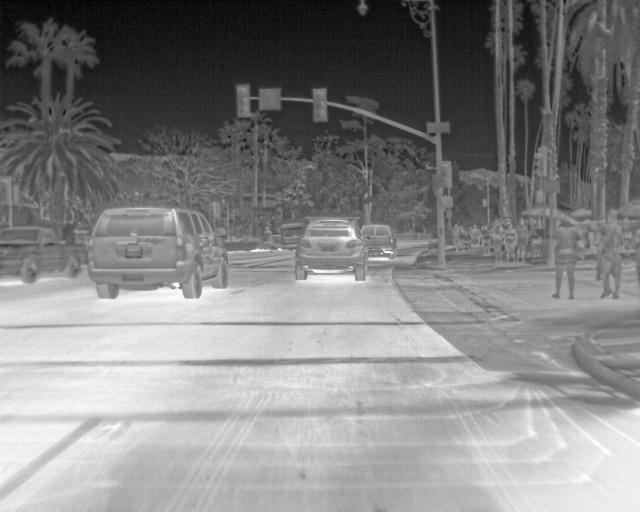bicycle: (85, 203, 230, 300), (0, 224, 92, 283), (296, 216, 368, 284), (357, 222, 397, 258)
empty: (594, 208, 626, 299), (549, 214, 580, 300), (513, 217, 530, 263), (490, 220, 505, 265), (502, 221, 518, 261), (449, 221, 464, 254)
